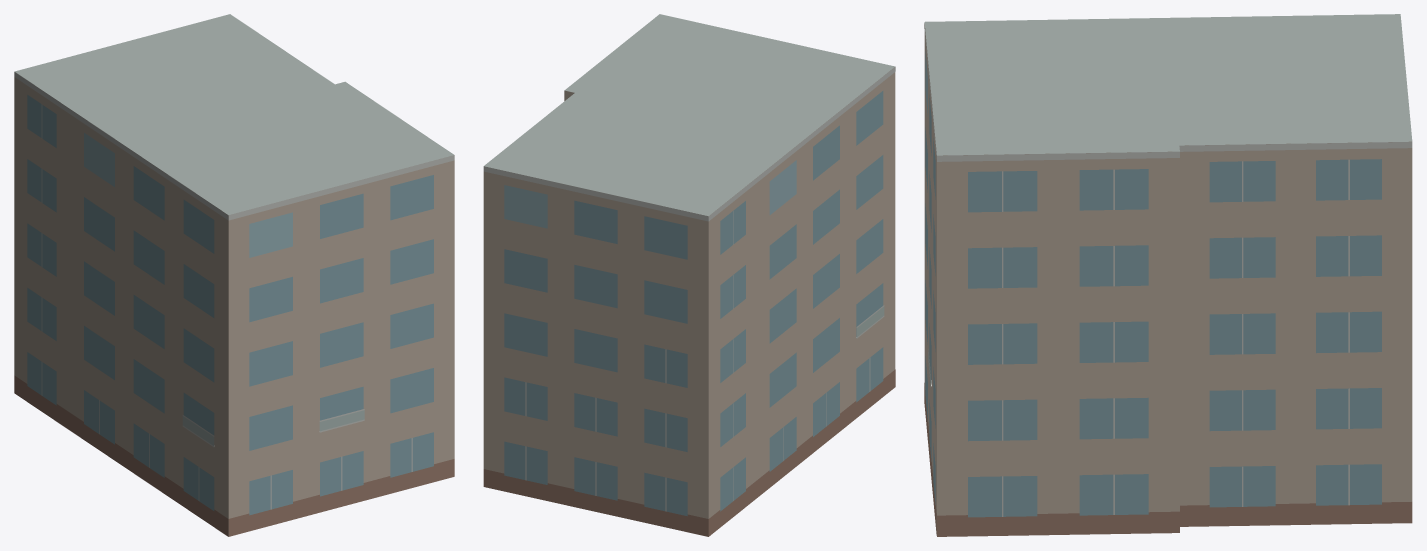
File: survey-upis-32623299.glb
The picture shows the model from 3 angles, left to right: view 1: azimuth 30°, elevation 25°; view 2: azimuth 150°, elevation 25°; view 3: azimuth 270°, elevation 25°; orthographic projection. The views are drawn at different scales.
Parts seen in each view (by area): view 1: survey-upis-32623299.tmp; view 2: survey-upis-32623299.tmp; view 3: survey-upis-32623299.tmp.
Boxes of the visible parts, x1,y1,x2,y2 form: survey-upis-32623299.tmp: [14, 14, 454, 536]; survey-upis-32623299.tmp: [483, 14, 895, 536]; survey-upis-32623299.tmp: [924, 14, 1412, 536].
Size of the model in its own units: 11.68 by 14.66 by 17.01.
